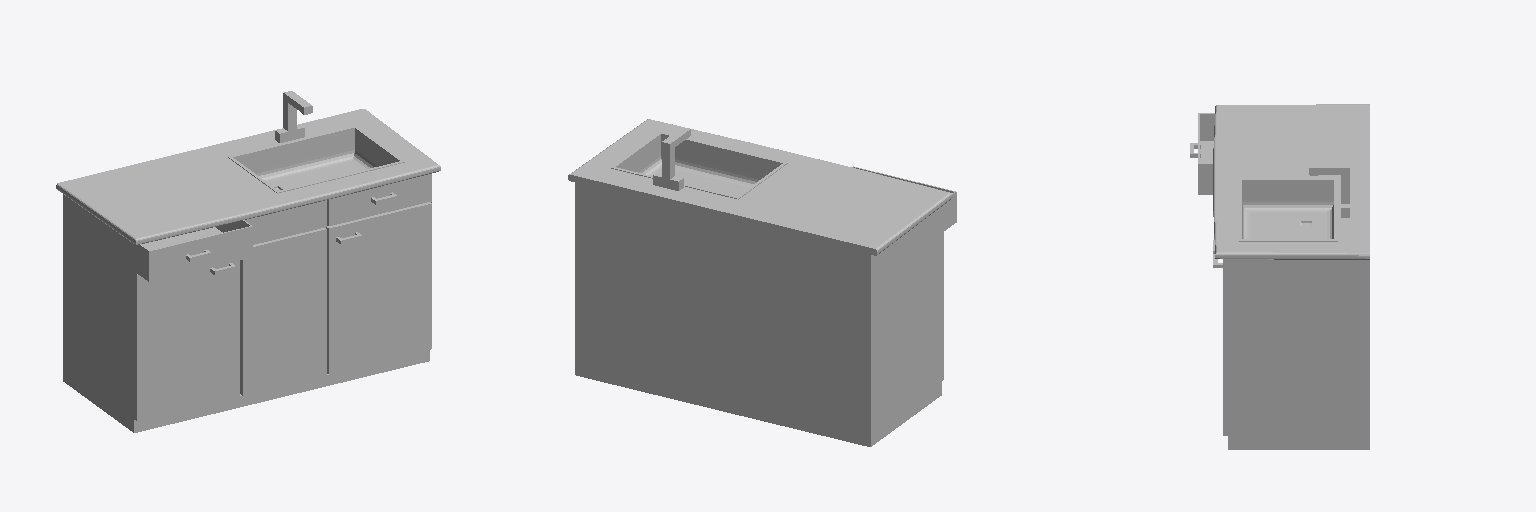
Rendered from evier.obj.
The picture shows the model from 3 angles: view 1: azimuth 30°, elevation 25°; view 2: azimuth 150°, elevation 25°; view 3: azimuth 270°, elevation 25°; orthographic projection.
Parts seen in each view (by area): view 1: Cube.008_Cube.009; view 2: Cube.008_Cube.009; view 3: Cube.008_Cube.009.
Part boxes in pixels (left/top/right/bottom): Cube.008_Cube.009: left=56, top=91, right=440, bottom=432; Cube.008_Cube.009: left=568, top=119, right=956, bottom=446; Cube.008_Cube.009: left=1190, top=104, right=1369, bottom=449.
Size of the model in its own units: 2.53 by 1.92 by 1.28.